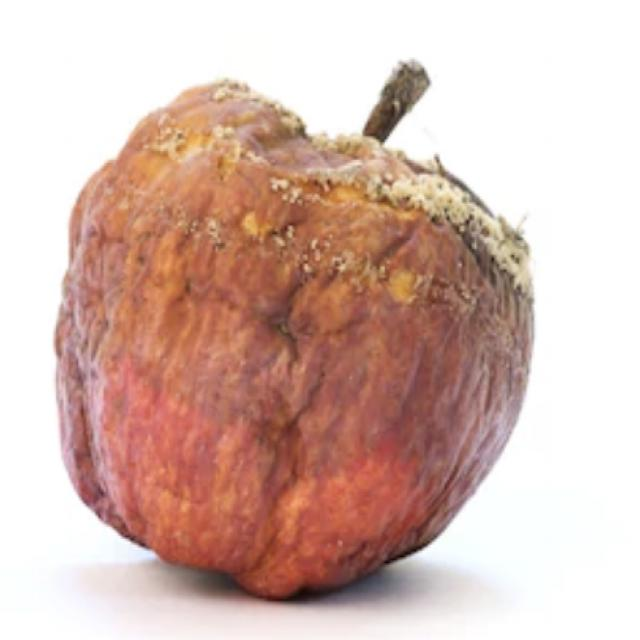rotten_apple: (52, 70, 529, 596)
